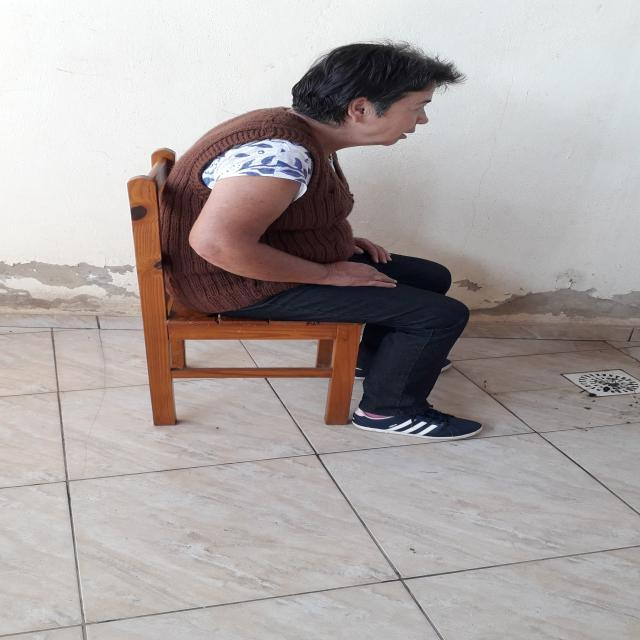bad-pose: (0, 0, 640, 640)
